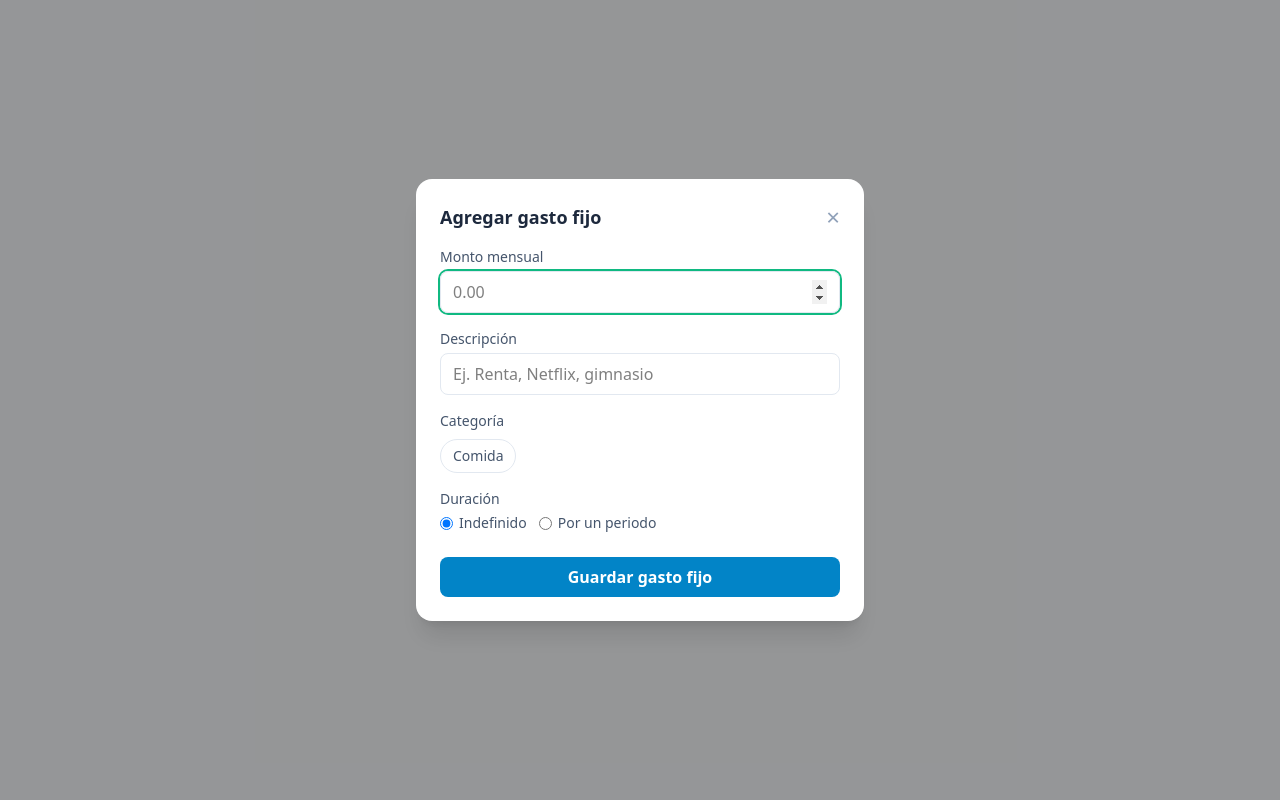
Test: ModalGastoFijo › exige seleccionar una categoría antes de guardar
In the number field with placeholder "0.00": (640, 292) [440,271,840,313], type "300"
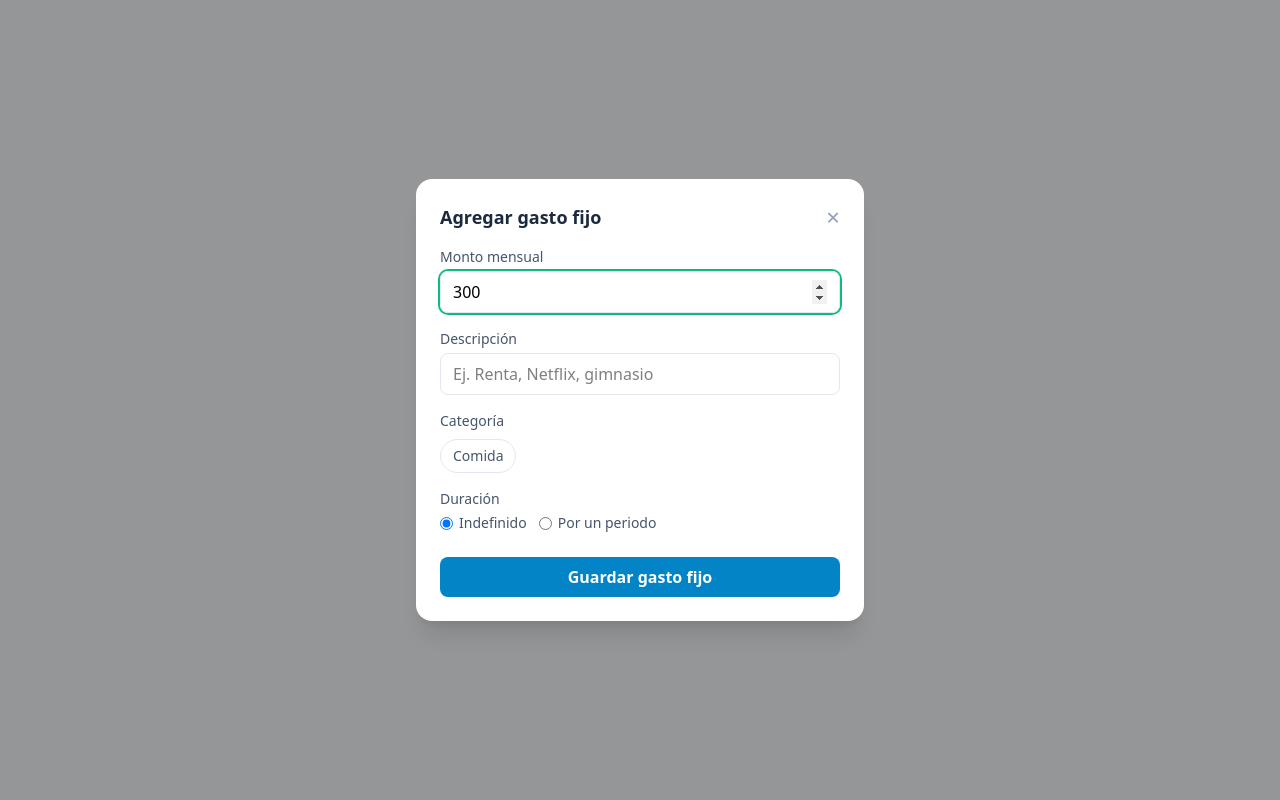
In the field with placeholder "Ej. Renta, Netflix, gimnasio": (640, 374) [440,353,840,395], type "Netflix"
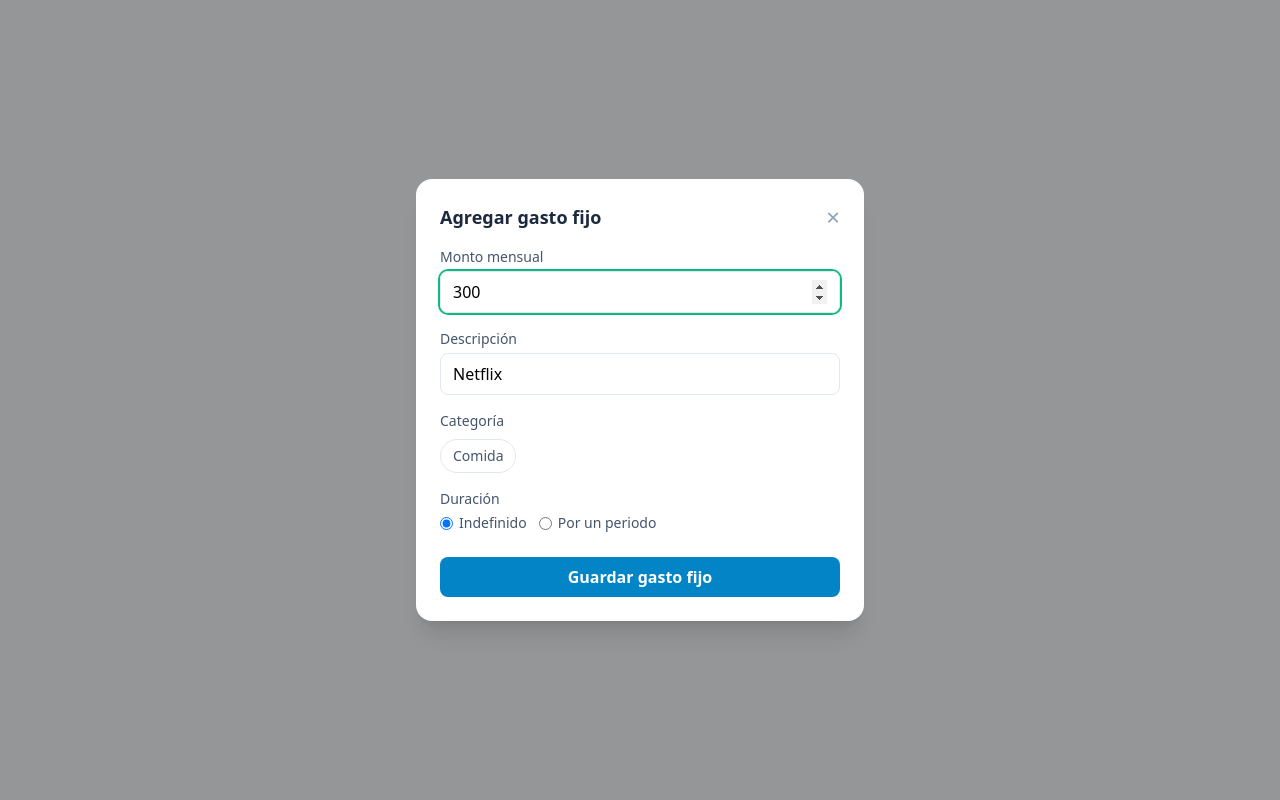
Click the button "Guardar gasto fijo": (640, 577) [440,557,840,597]
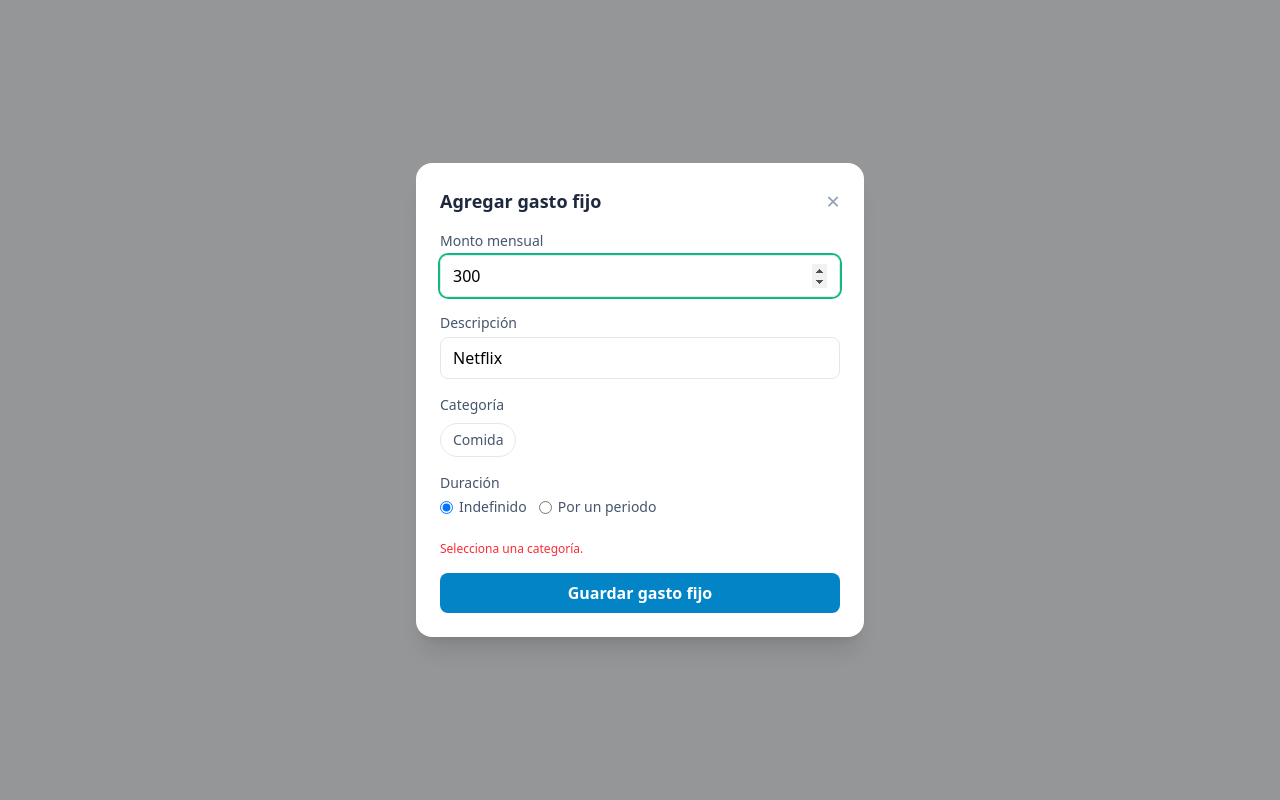
expect the text "Selecciona una categoría." is shown: met, box [440,540,583,557]
